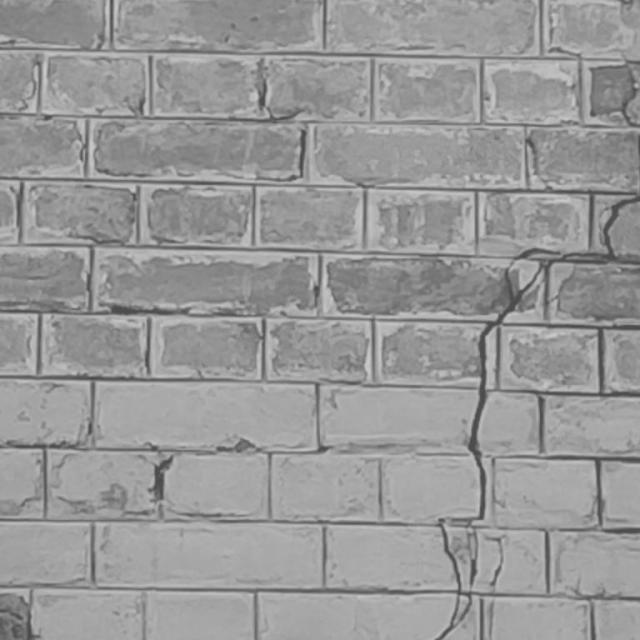crack: (435, 197, 639, 640)
